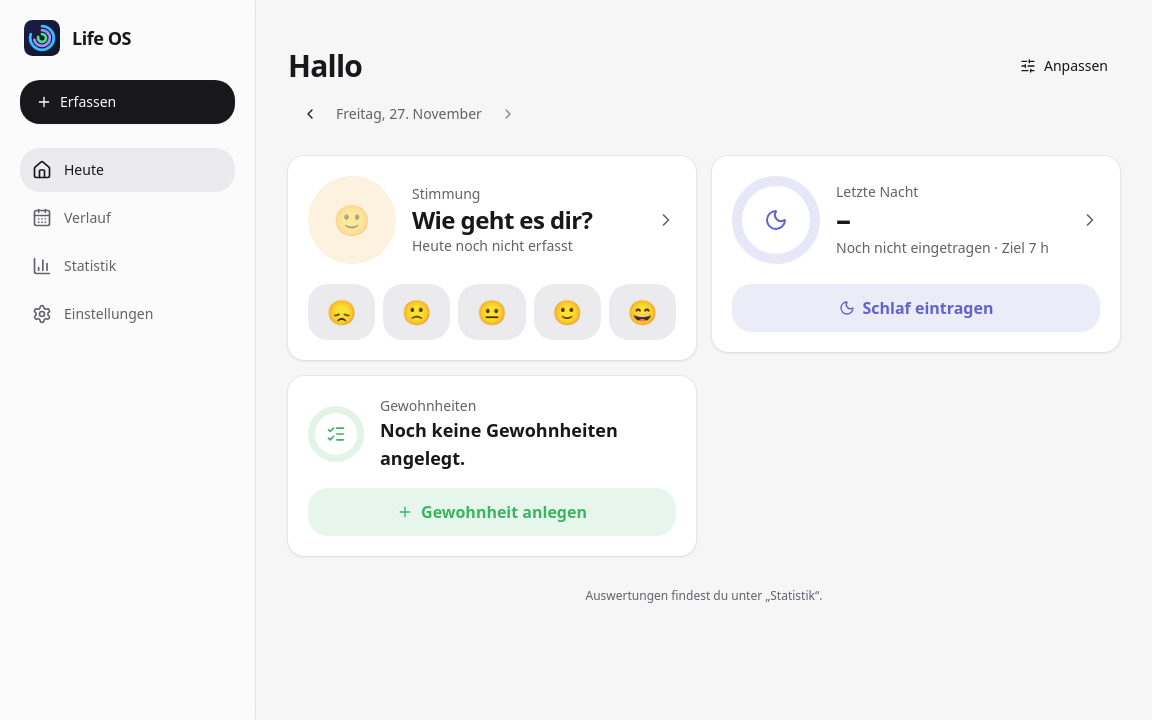
it: mood, sleep and habit widgets › records a mood with one tap
Click the radio button named "Gut" at (567, 312), box [534, 284, 601, 340]
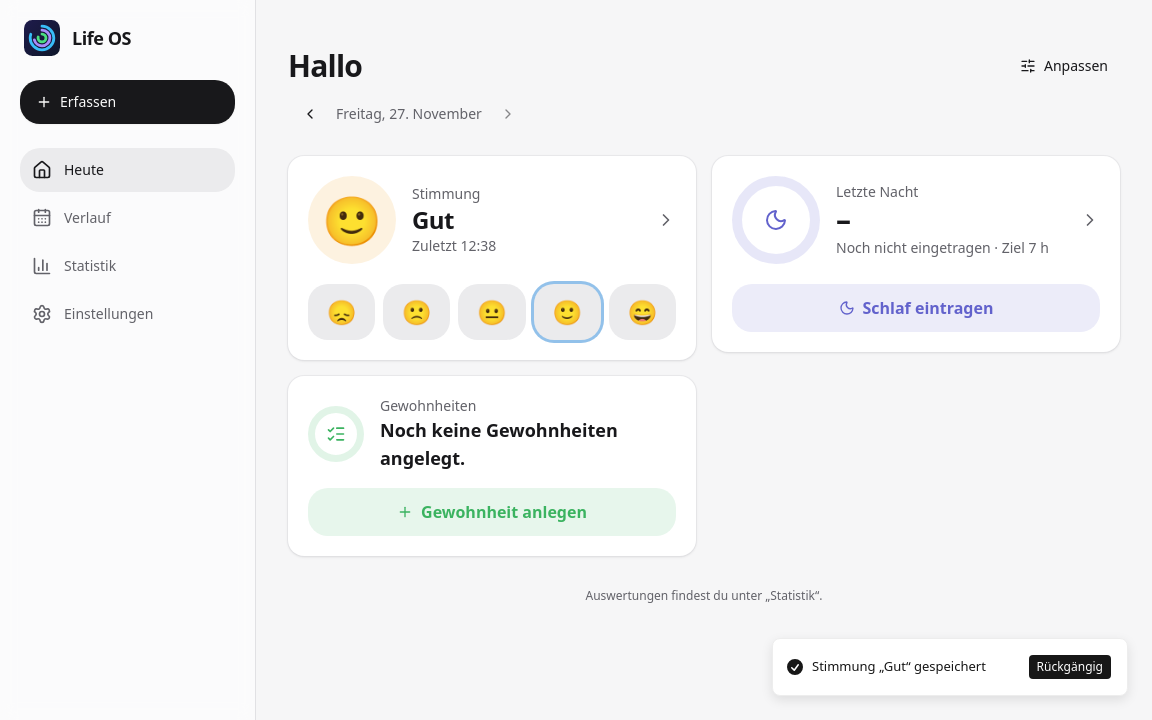
Expected: the heading "Hallo" is shown, [288, 48, 362, 84]
Result: the text "Stimmung „Gut“ gespeichert" is shown at [812, 657, 986, 677]
